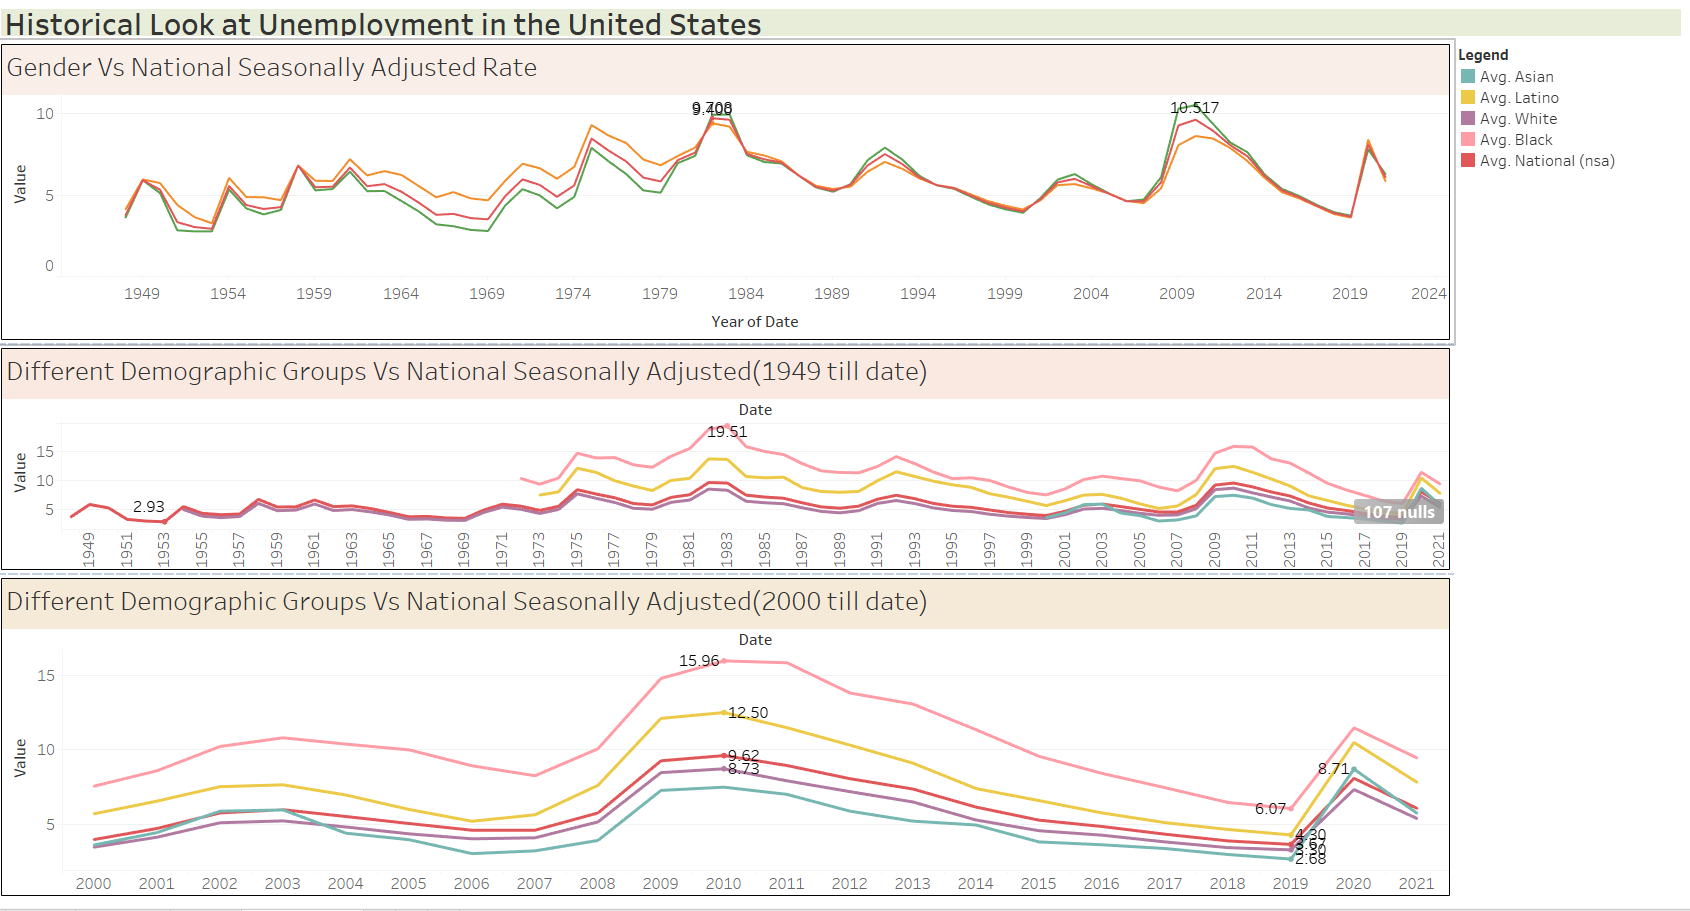

Layout of this report page (visuals, bound fields, positions):
{"tool":"tableau","page":{"name":"Dashboard 1","canvas":[1000,1000],"units":"permille","ordinal":0},"visuals":[{"type":"worksheet","box":[0,0,1000,1000]},{"type":"worksheet","param":"vert","box":[4.8,8.8,990.3,982.4]},{"type":"worksheet","param":"horz","box":[4.8,8.8,990.3,982.4]},{"type":"worksheet","param":"horz","box":[4.8,8.8,887.7,982.4]},{"type":"worksheet","box":[4.8,8.8,887.7,982.4]},{"type":"worksheet","title":"Sheet 1","mark":"Automatic","cols":["DATE"],"box":[4.8,8.8,443.8,491.2]},{"type":"worksheet","title":"Sheet 3","mark":"Line","cols":["DATE"],"box":[448.7,8.8,443.9,491.2]},{"type":"worksheet","param":"vert","box":[892.6,8.8,102.6,982.4]},{"type":"worksheet","title":"Sheet 3 (2)","mark":"Line","cols":["DATE"],"param":"[federated.1wwbhke0hy70nv1504yys0epjkrz].[:Measure Names]","box":[892.6,8.8,102.6,148.2]},{"type":"worksheet","title":"Sheet 3 (2)","mark":"Line","cols":["DATE"],"box":[4.8,500,887.7,491.2]}]}

Visuals, with their boxes on the dashboard's canvas, which has no fixed pixel size, in thousandths of its width and height (x1, y1, x2, y2). These are canvas units, not pixel positions in the 1690x911 screenshot, which may show the page scaled, cropped or inside an application window:
worksheet: rect(0, 0, 1000, 1000)
worksheet: rect(5, 9, 995, 991)
worksheet: rect(5, 9, 995, 991)
worksheet: rect(5, 9, 892, 991)
worksheet: rect(5, 9, 892, 991)
"Sheet 1" worksheet: rect(5, 9, 449, 500)
"Sheet 3" worksheet (Line marks): rect(449, 9, 893, 500)
worksheet: rect(893, 9, 995, 991)
"Sheet 3 (2)" worksheet (Line marks): rect(893, 9, 995, 157)
"Sheet 3 (2)" worksheet (Line marks): rect(5, 500, 892, 991)
